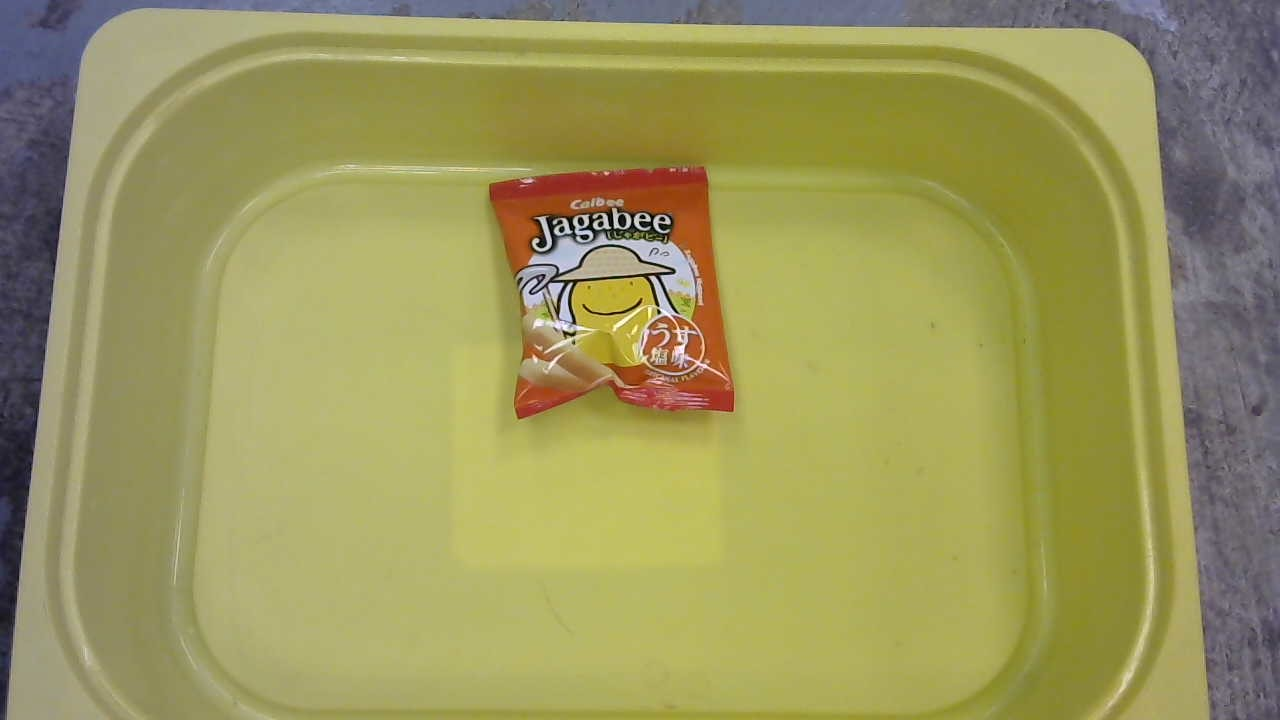JagabeeFarmer: (472, 158, 750, 429)
